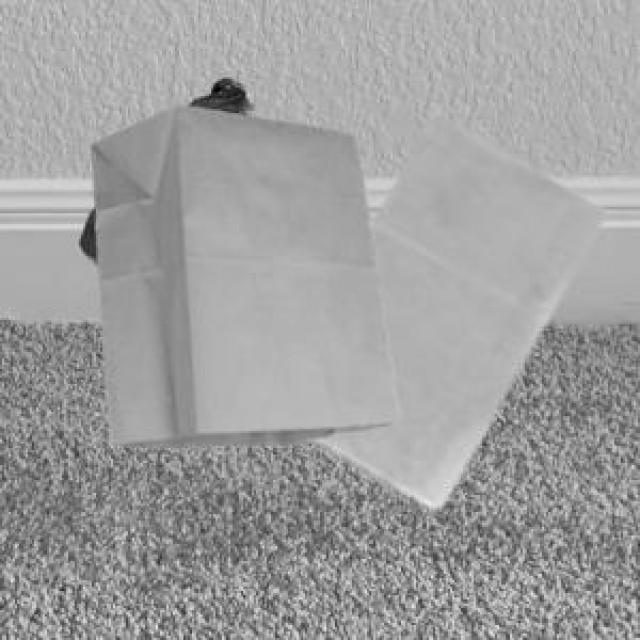miscellaneous trash: (132, 75, 252, 225)
paper: (305, 111, 600, 501), (88, 100, 397, 444)
